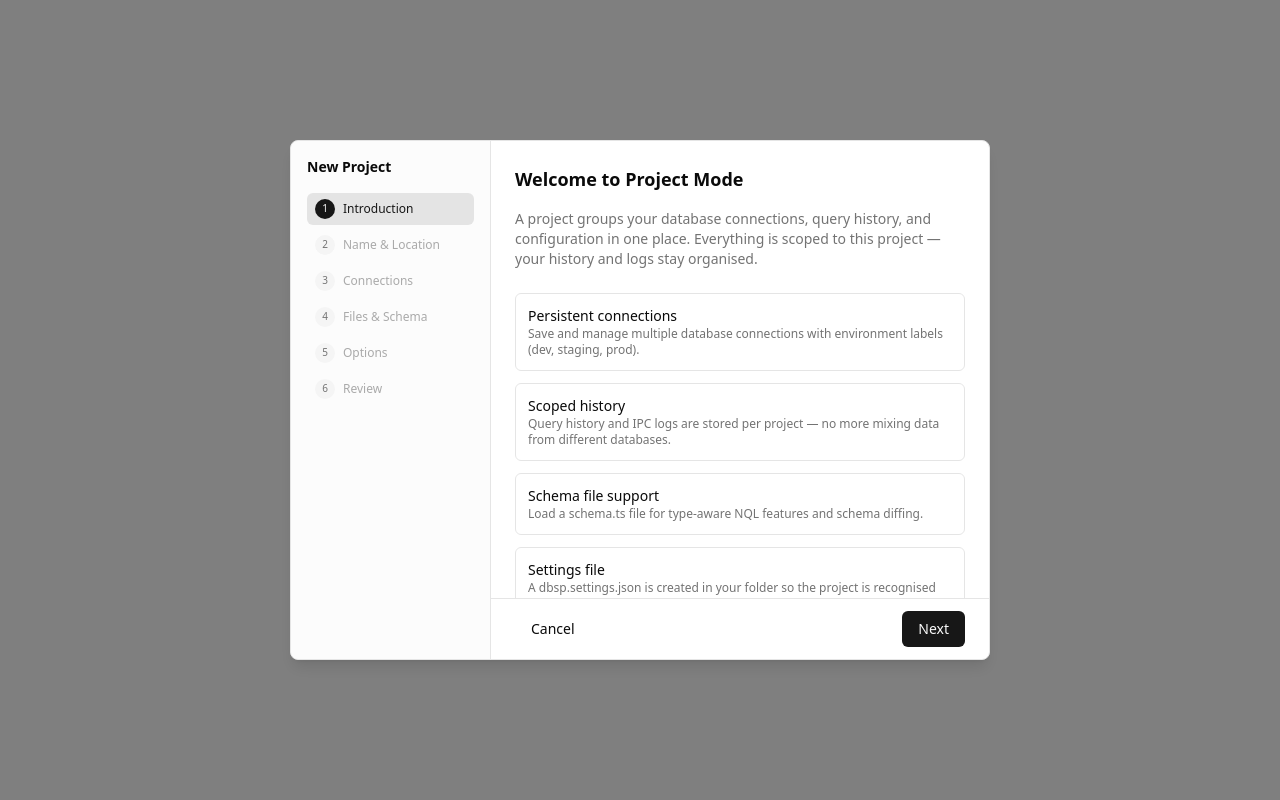
Test case: NewProjectWizard › advances to Name step on Next click
Click the button with test id "wizard-next": [934, 629] box [902,611,965,647]
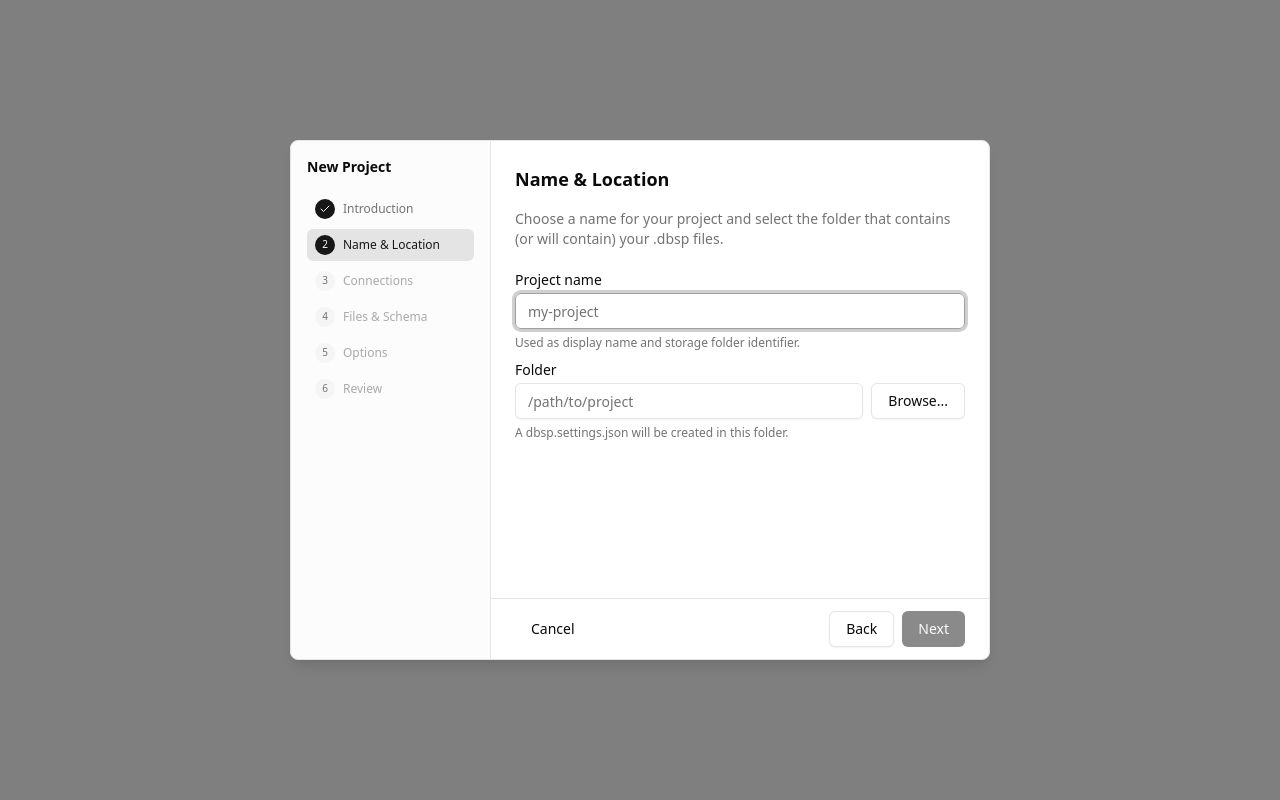
Expected: the heading "Name & Location" is shown, [515,167,669,191]
